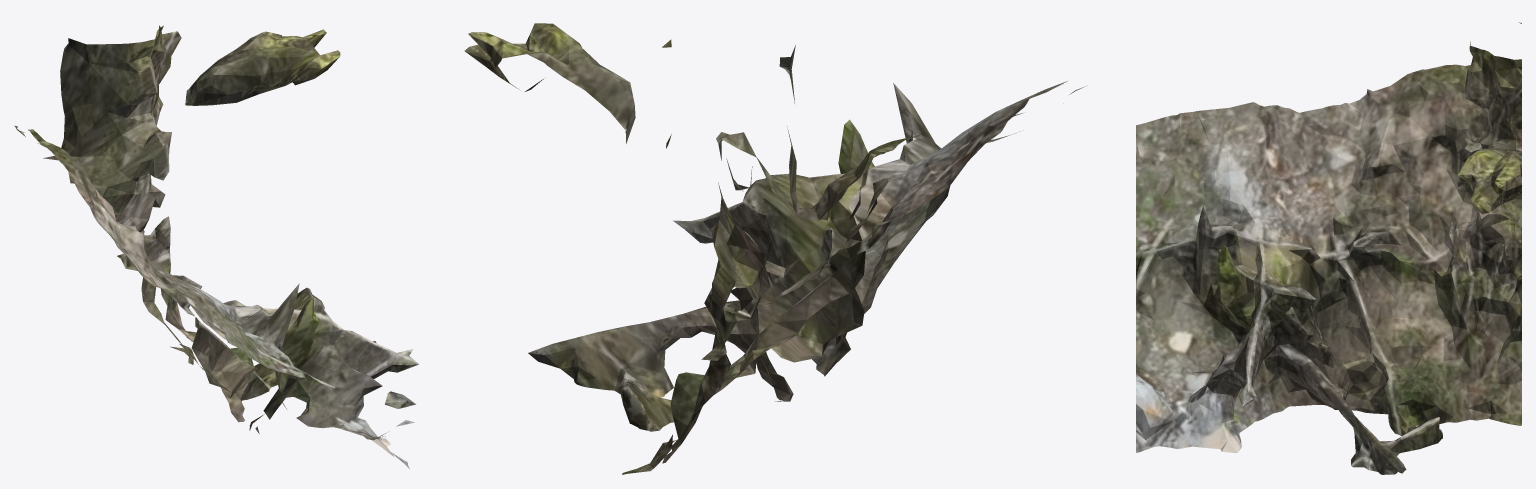
3 renders of one model, left to right at view 1: azimuth 30°, elevation 25°; view 2: azimuth 150°, elevation 25°; view 3: azimuth 270°, elevation 25°, orthographic. The views are drawn at different scales.
Bounding box in the file's own units: 2.79 × 2.95 × 2.95.
4 materials, 4 textured.
